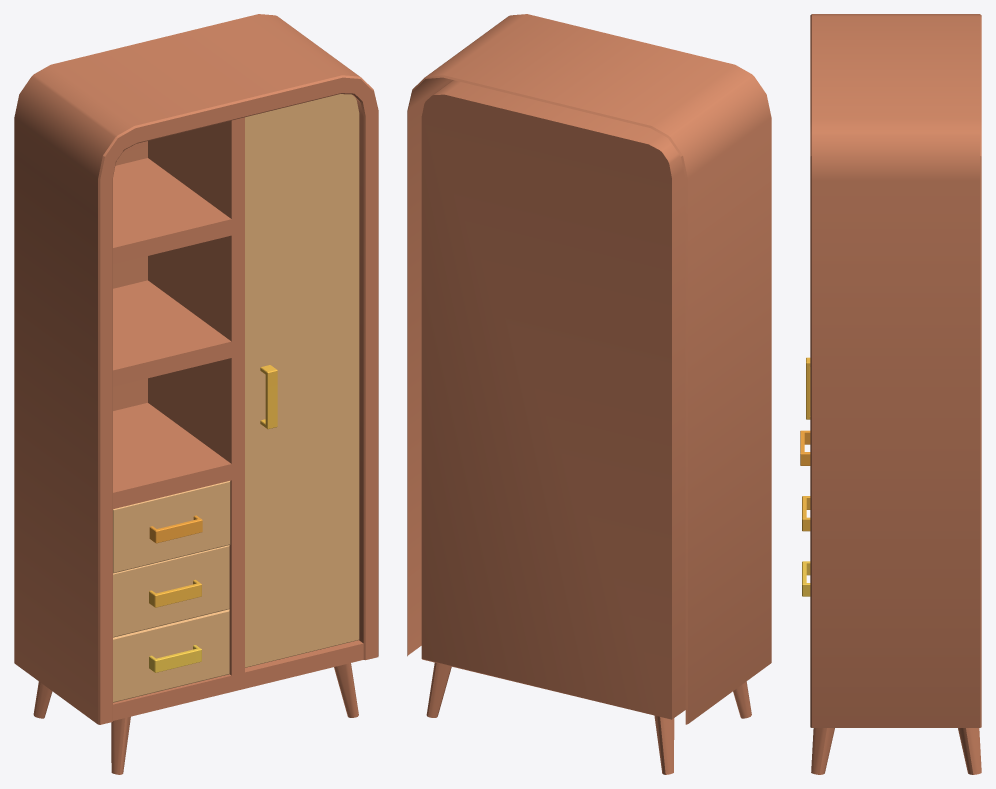
Rendered from Wardrobe.fbx.
3 views of the same model, side by side, from view 1: azimuth 30°, elevation 25°; view 2: azimuth 150°, elevation 25°; view 3: azimuth 270°, elevation 25° (orthographic).
Visible parts, largest first — view 1: Wardrobe; view 2: Wardrobe; view 3: Wardrobe.
Part boxes in pixels (x1,y1,x2,y2): Wardrobe: (14, 14, 378, 774); Wardrobe: (407, 14, 771, 774); Wardrobe: (800, 14, 981, 774).
Bounding box in the file's own units: 9.55 × 21.04 × 5.34.
Materials: 1 (1 with a texture image).
